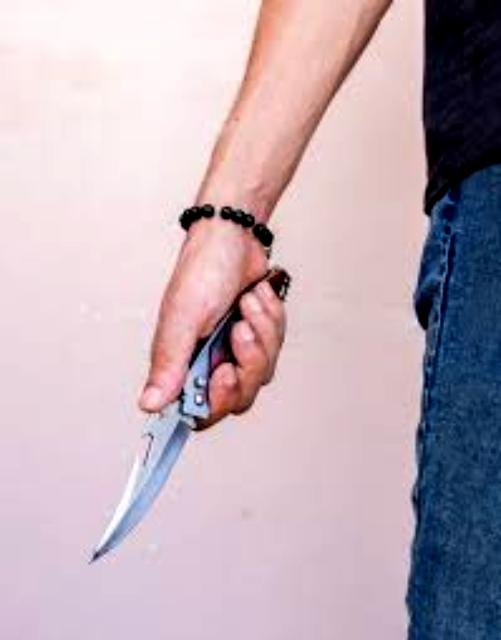pocket-knife: (86, 258, 290, 578)
